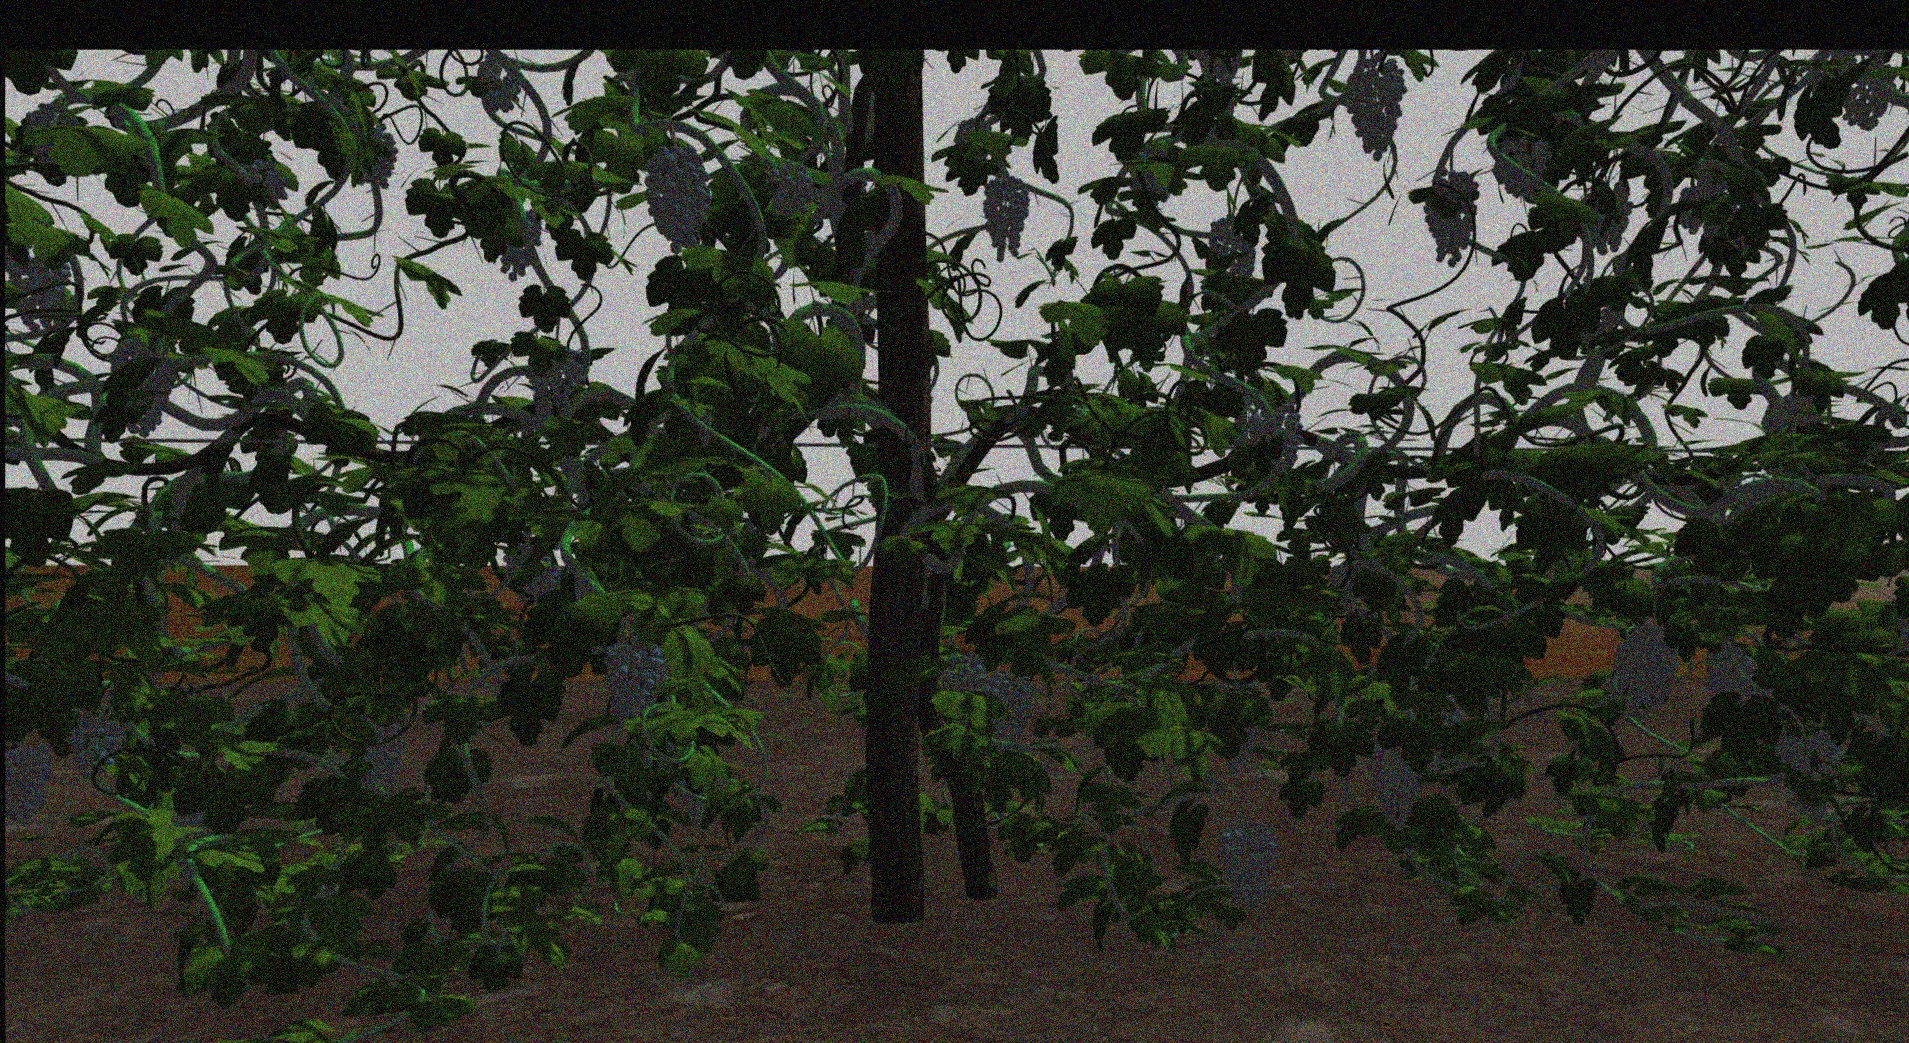grape: (644, 135, 710, 253), (1610, 620, 1679, 717), (1344, 59, 1407, 163), (1421, 170, 1481, 268), (1777, 732, 1842, 818), (1217, 819, 1277, 908), (602, 635, 665, 719), (1369, 736, 1422, 834), (12, 254, 80, 331), (8, 733, 54, 832), (350, 718, 412, 790), (67, 709, 125, 785), (982, 173, 1031, 262), (1247, 397, 1306, 469), (526, 349, 585, 417), (1490, 135, 1550, 197), (1838, 69, 1896, 132), (983, 670, 1035, 737), (1204, 213, 1257, 277), (1704, 644, 1755, 700), (476, 51, 520, 116), (764, 158, 813, 215), (238, 157, 290, 202), (940, 650, 987, 697)
